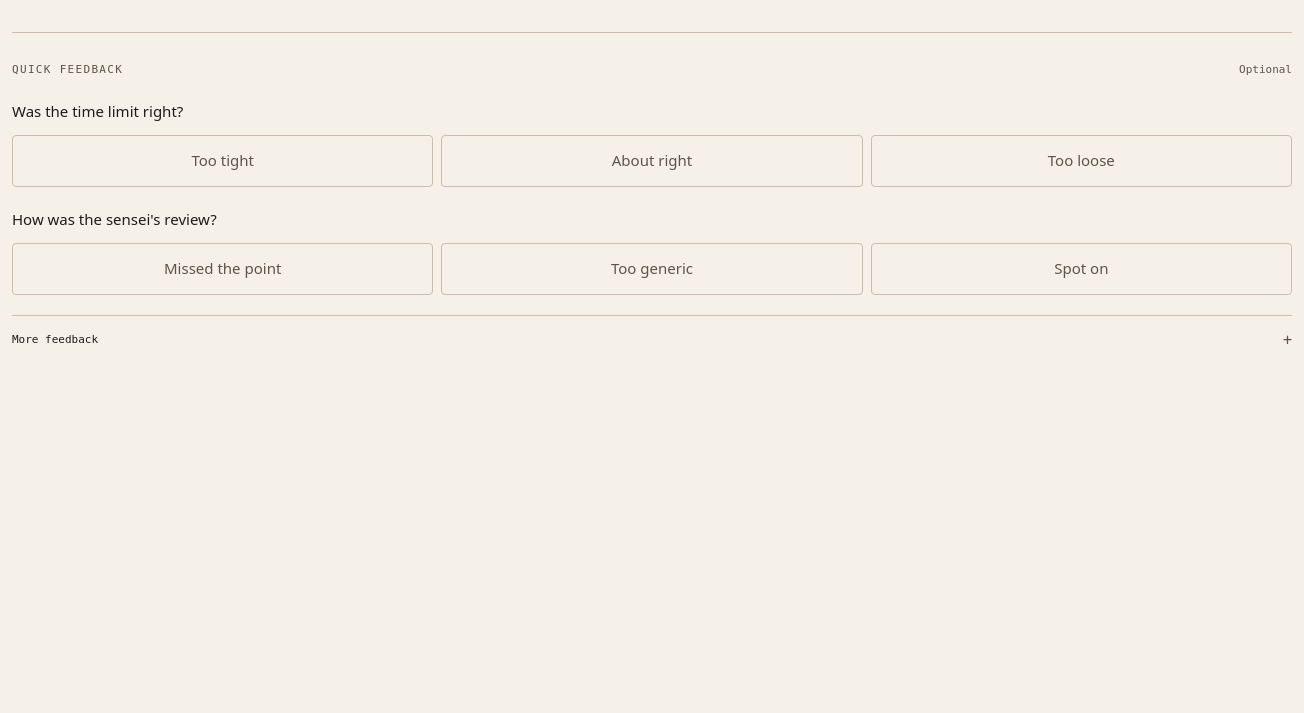
Test: FeedbackSection › sends a trimmed note on its own, then thanks the learner
Click the text "More feedback" at (55,340), box [12,332,98,348]
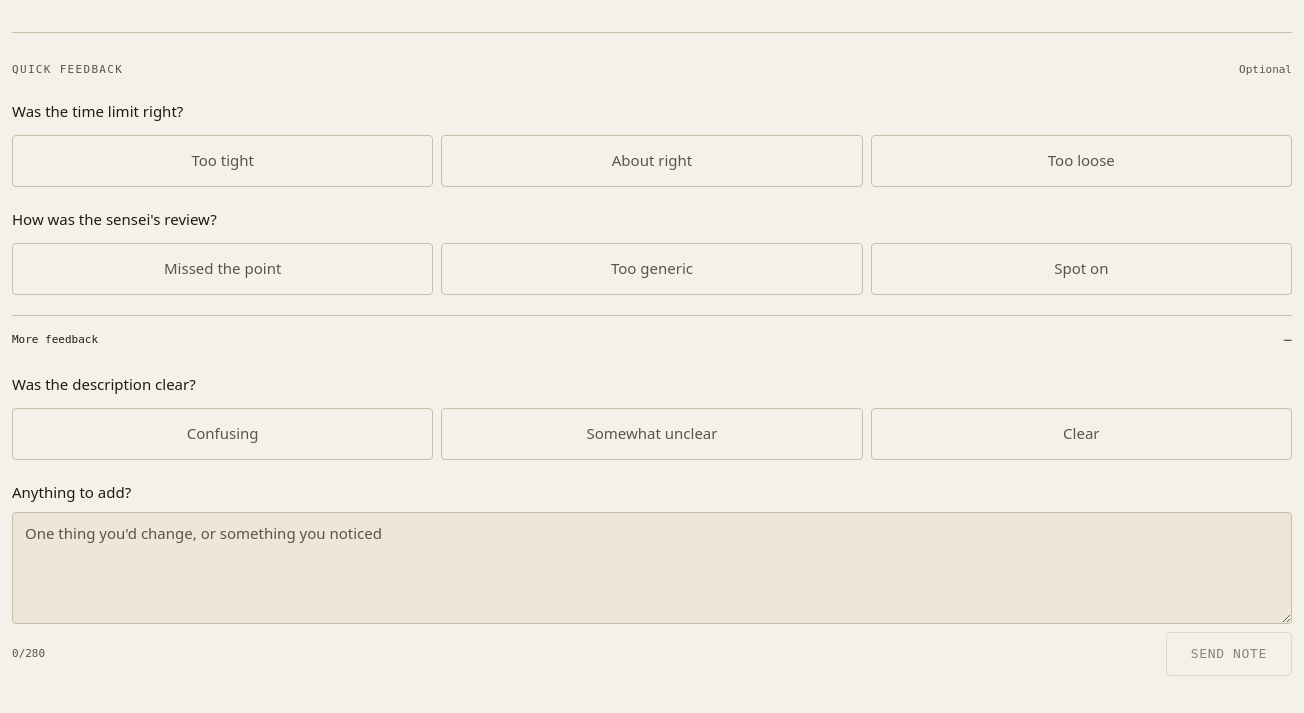
Check: the button "Send note" is disabled, box [1166,632,1292,676]
Type "  shorter code next time  " into the text box labelled "Anything to add?" at (652,568), box [12,512,1292,624]
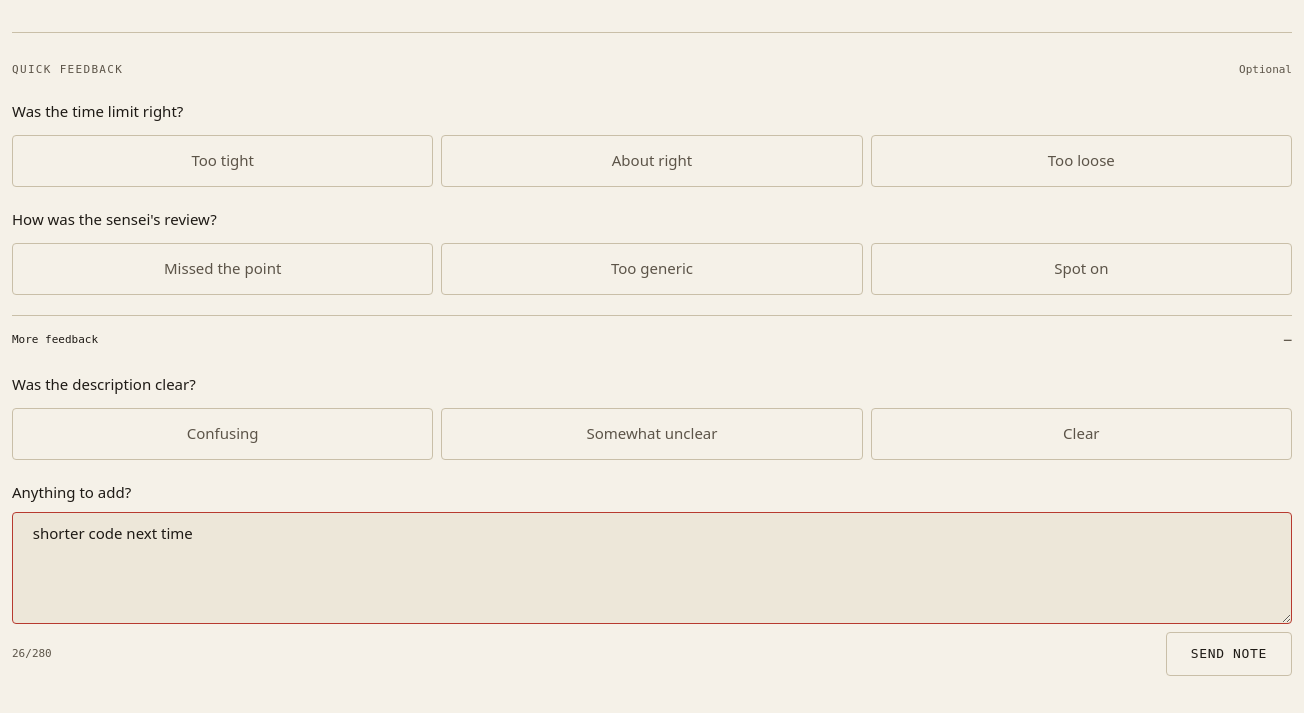
Click the button "Send note" at (1229,654), box [1166,632,1292,676]
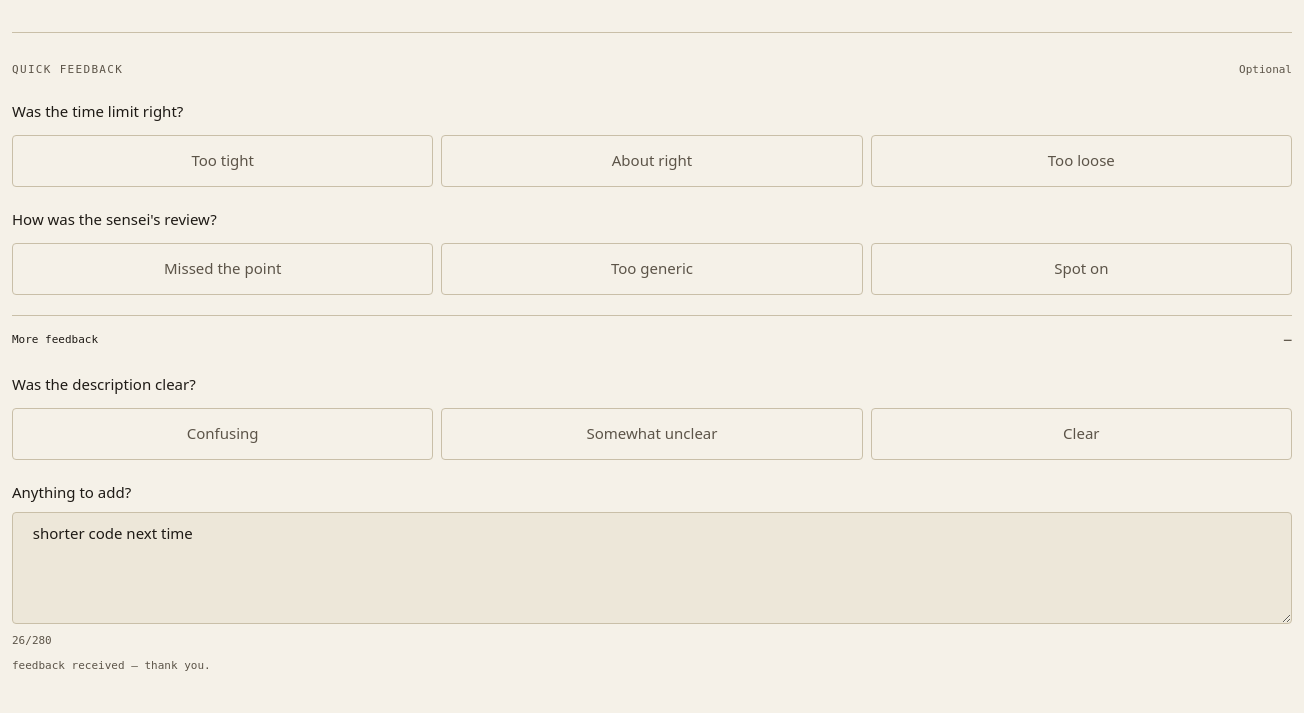
Check: the text "feedback received — thank you." is shown, box [12,659,211,672]
